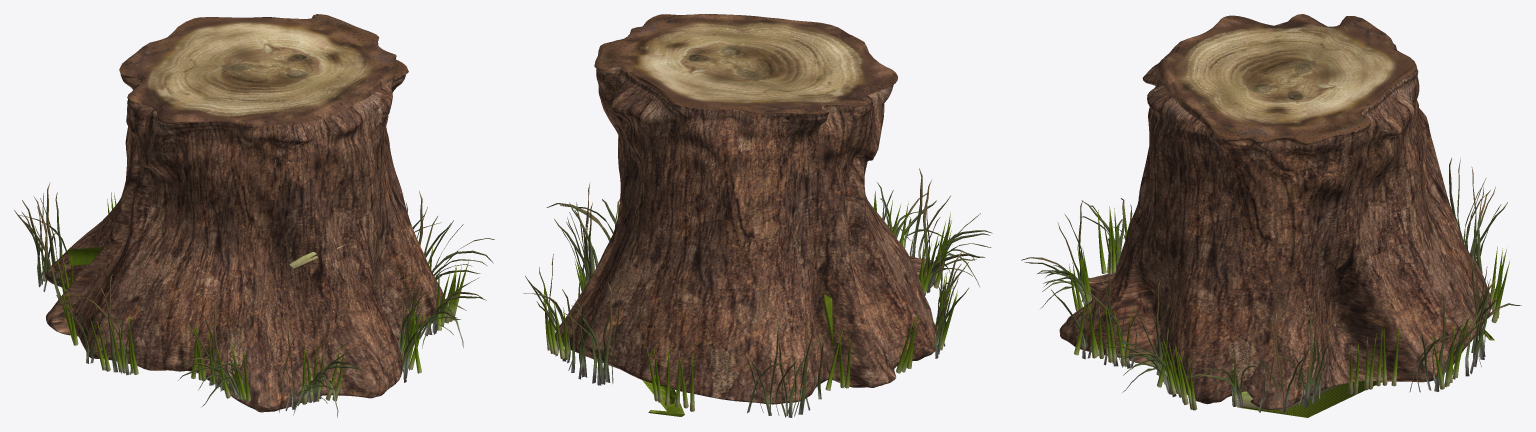
The model's file is tree_stump.FBX.
The picture shows the model from 3 angles, left to right: view 1: azimuth 30°, elevation 25°; view 2: azimuth 150°, elevation 25°; view 3: azimuth 270°, elevation 25°; orthographic projection. The views are drawn at different scales.
Visible parts, largest first — view 1: Part_5, Part_4, Part_1, Part_2; view 2: Part_5, Part_4, Part_1, Part_2; view 3: Part_5, Part_4, Part_1, Part_2.
Part boxes in pixels (x1=…): Part_5: x1=44, y1=35, x2=447, y2=412; Part_4: x1=119, y1=14, x2=407, y2=127; Part_1: x1=14, y1=182, x2=494, y2=417; Part_2: x1=56, y1=192, x2=468, y2=404; Part_5: x1=555, y1=49, x2=937, y2=404; Part_4: x1=594, y1=14, x2=897, y2=114; Part_1: x1=523, y1=168, x2=992, y2=417; Part_2: x1=543, y1=190, x2=957, y2=416; Part_5: x1=1059, y1=16, x2=1491, y2=409; Part_4: x1=1158, y1=14, x2=1416, y2=143; Part_1: x1=1021, y1=157, x2=1521, y2=412; Part_2: x1=1069, y1=197, x2=1509, y2=417.
Bounding box in the file's own units: 685 × 427 × 694.
Materials: 5 (5 with a texture image).
